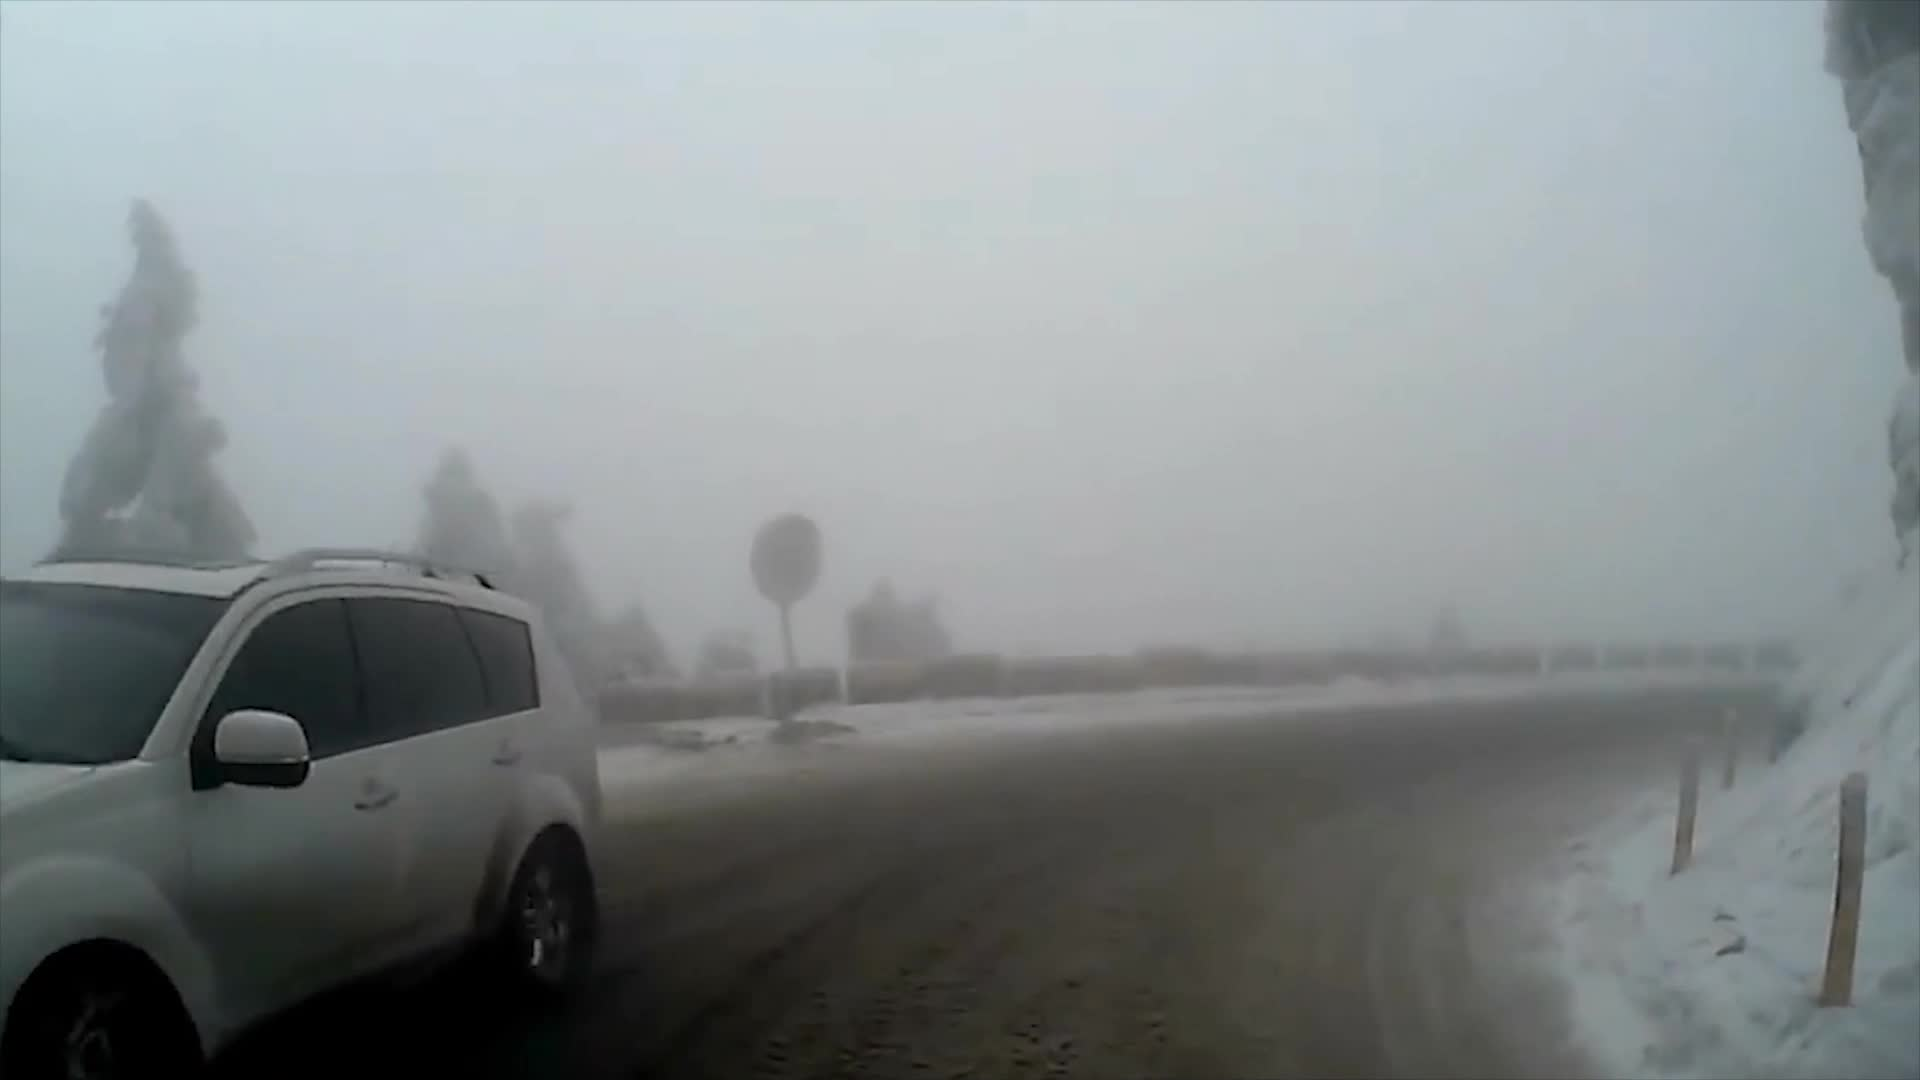vehicle: (0, 545, 607, 1080)
